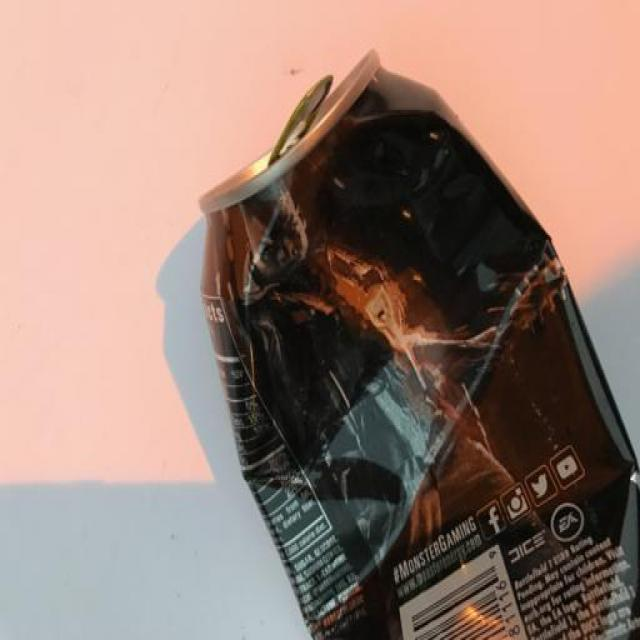metel: (172, 29, 640, 640)
